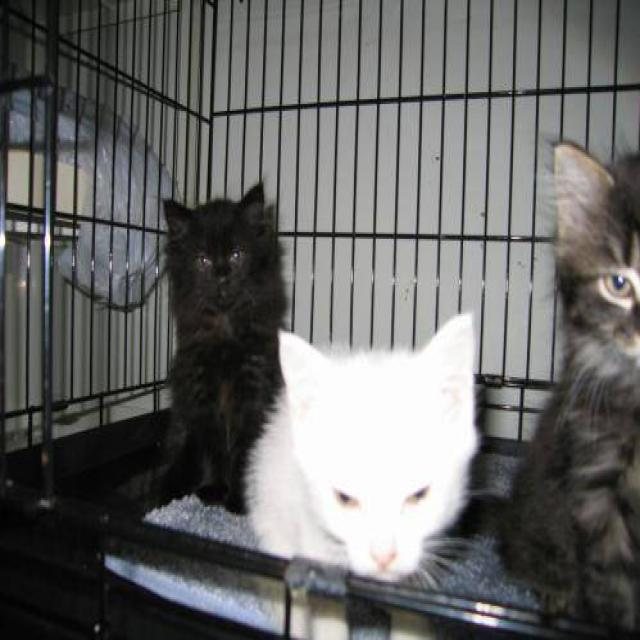cat: (491, 135, 639, 635), (242, 309, 481, 590), (145, 180, 289, 516)
